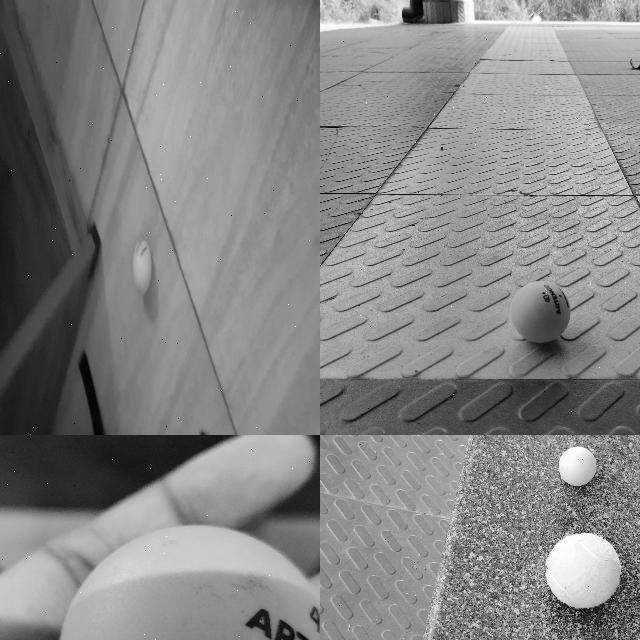ping-pong-ball: (60, 524, 319, 639), (512, 280, 570, 344), (558, 446, 596, 488), (132, 240, 152, 294)
